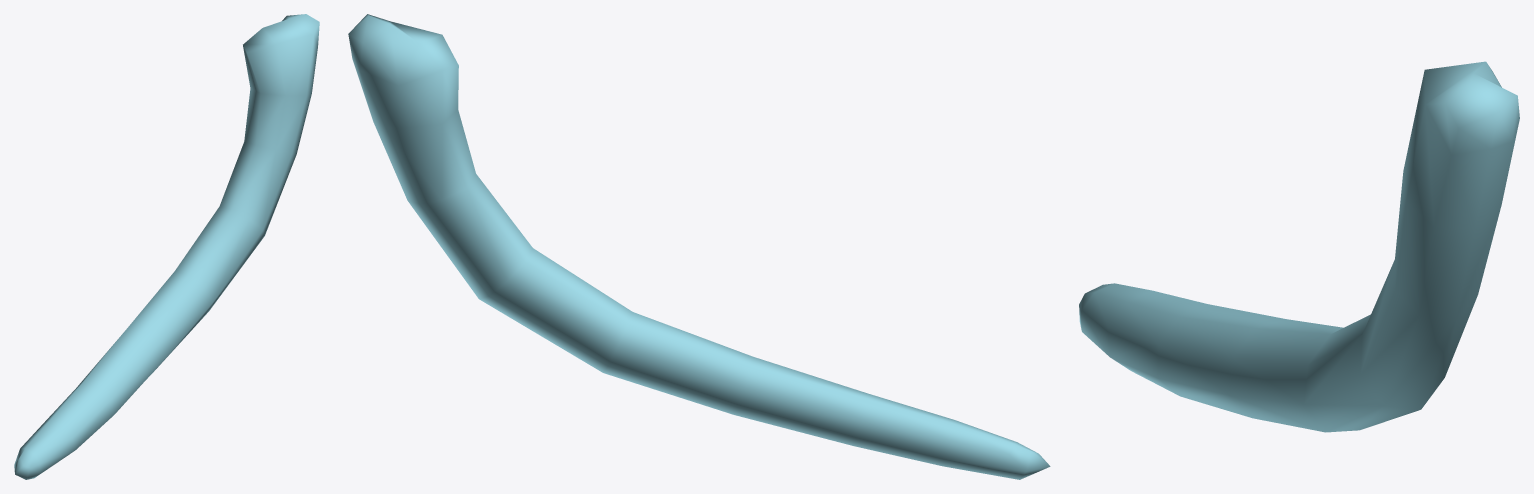
3 views of the same model, side by side, from view 1: azimuth 30°, elevation 25°; view 2: azimuth 150°, elevation 25°; view 3: azimuth 270°, elevation 25° (orthographic). The views are drawn at different scales.
Visible parts, largest first — view 1: CC L4; view 2: CC L4; view 3: CC L4.
Part boxes in pixels (x1,y1,x2,y2): CC L4: [14, 14, 319, 479]; CC L4: [348, 14, 1050, 479]; CC L4: [1079, 61, 1519, 432].
Size of the model in its own units: 2.06 by 1.52 by 0.9921.
